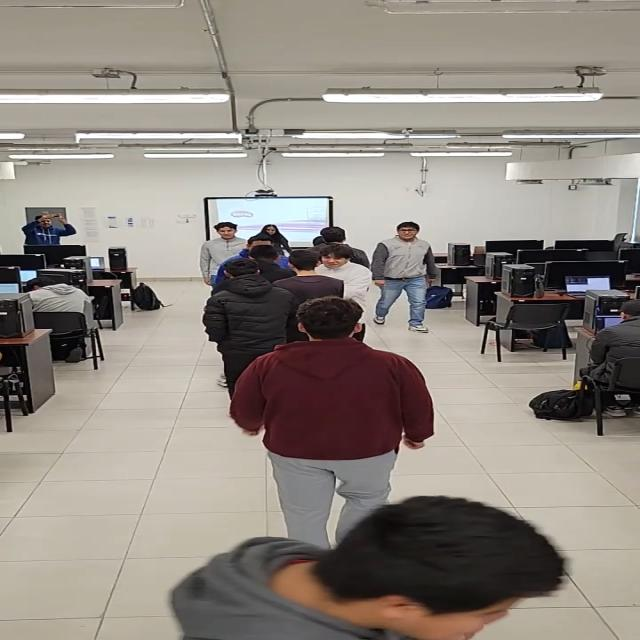Persona: (195, 505, 572, 640), (242, 298, 423, 506), (377, 214, 433, 332), (215, 262, 283, 350), (27, 203, 85, 258), (270, 249, 327, 304), (316, 247, 370, 300), (209, 219, 240, 265), (316, 223, 368, 249), (250, 221, 300, 248)
